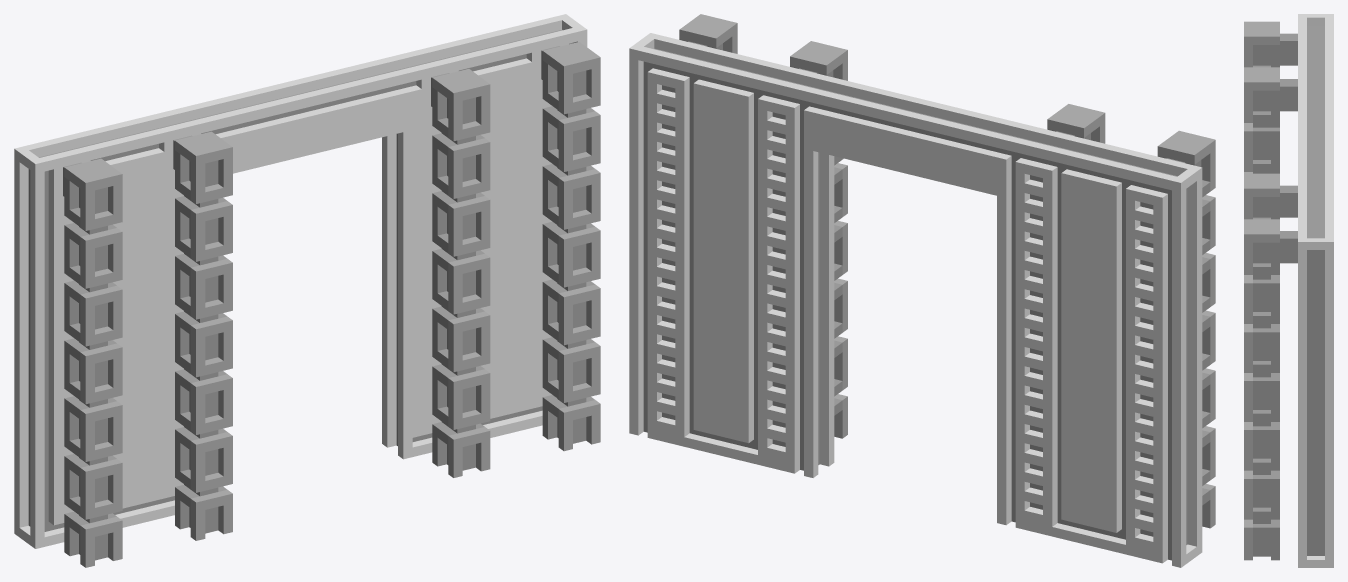
Rendered from Main Hall Doorway.obj.
3 renders of one model, left to right at view 1: azimuth 30°, elevation 25°; view 2: azimuth 150°, elevation 25°; view 3: azimuth 270°, elevation 25°, orthographic. The views are drawn at different scales.
Bounding box in the file's own units: 60 × 40 × 10.
1 material, 1 textured.
